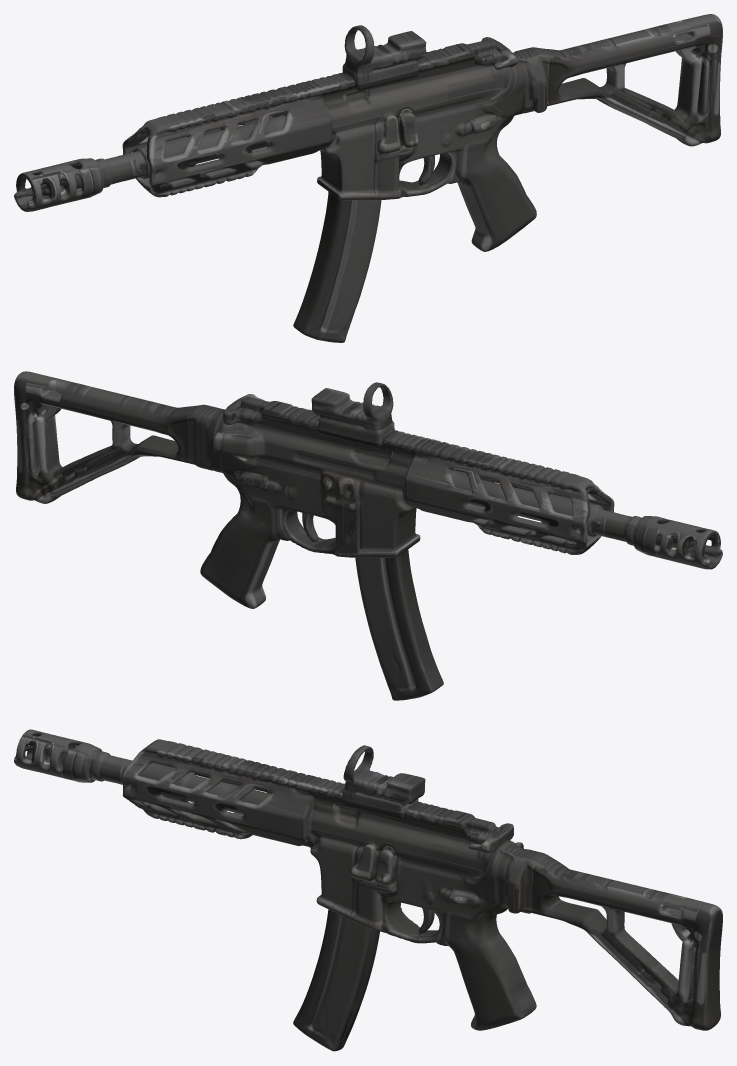
Rendered from stringray.glb.
3 views of the same model, one above another, from view 1: azimuth 30°, elevation 25°; view 2: azimuth 150°, elevation 25°; view 3: azimuth 330°, elevation 25° (orthographic).
Parts seen in each view (by area): view 1: tripo_node_3b44d699-fe53-4102-a559-84d2c728551a; view 2: tripo_node_3b44d699-fe53-4102-a559-84d2c728551a; view 3: tripo_node_3b44d699-fe53-4102-a559-84d2c728551a.
Boxes of the visible parts, x1=… form: tripo_node_3b44d699-fe53-4102-a559-84d2c728551a: x1=14, y1=14, x2=722, y2=342; tripo_node_3b44d699-fe53-4102-a559-84d2c728551a: x1=14, y1=371, x2=722, y2=700; tripo_node_3b44d699-fe53-4102-a559-84d2c728551a: x1=14, y1=729, x2=722, y2=1051.
Bounding box in the file's own units: 1 × 0.4205 × 0.092.
1 material, 1 textured.
